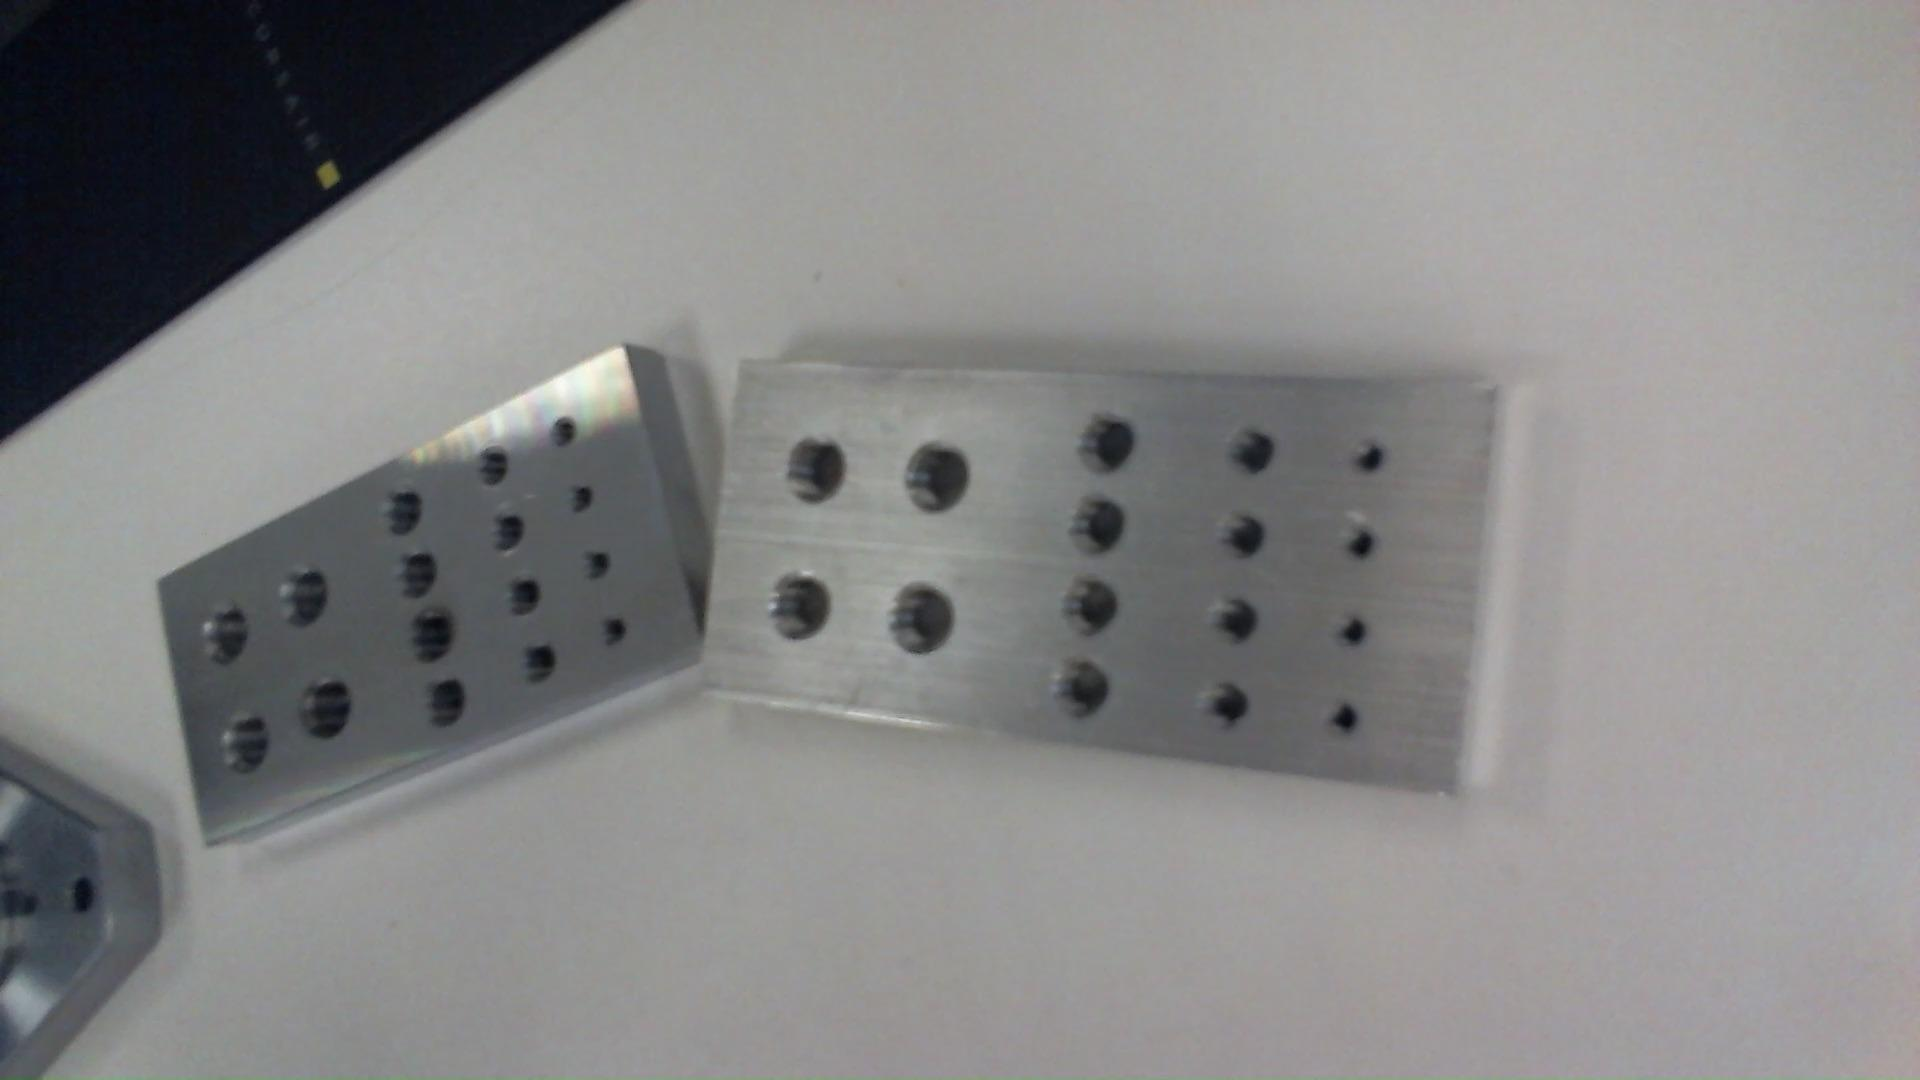hole: (778, 429, 849, 520), (757, 567, 832, 649), (887, 571, 952, 666), (897, 440, 968, 521), (269, 560, 335, 632), (291, 670, 356, 742), (1048, 655, 1113, 724), (215, 711, 277, 781), (196, 601, 258, 669), (1056, 570, 1116, 640), (1067, 492, 1127, 559), (1076, 409, 1135, 473), (1212, 506, 1270, 566), (1222, 421, 1276, 480), (406, 608, 459, 666), (1192, 683, 1251, 735), (1209, 592, 1262, 647), (372, 487, 430, 537), (1332, 514, 1385, 567), (425, 674, 469, 731), (1341, 433, 1389, 483), (471, 439, 513, 495), (396, 550, 442, 597), (485, 505, 527, 556), (521, 638, 560, 688), (1321, 699, 1367, 741), (504, 575, 545, 622), (1331, 611, 1373, 651), (61, 873, 99, 918), (582, 550, 618, 585), (546, 413, 583, 448), (564, 484, 599, 518), (597, 615, 630, 649)
